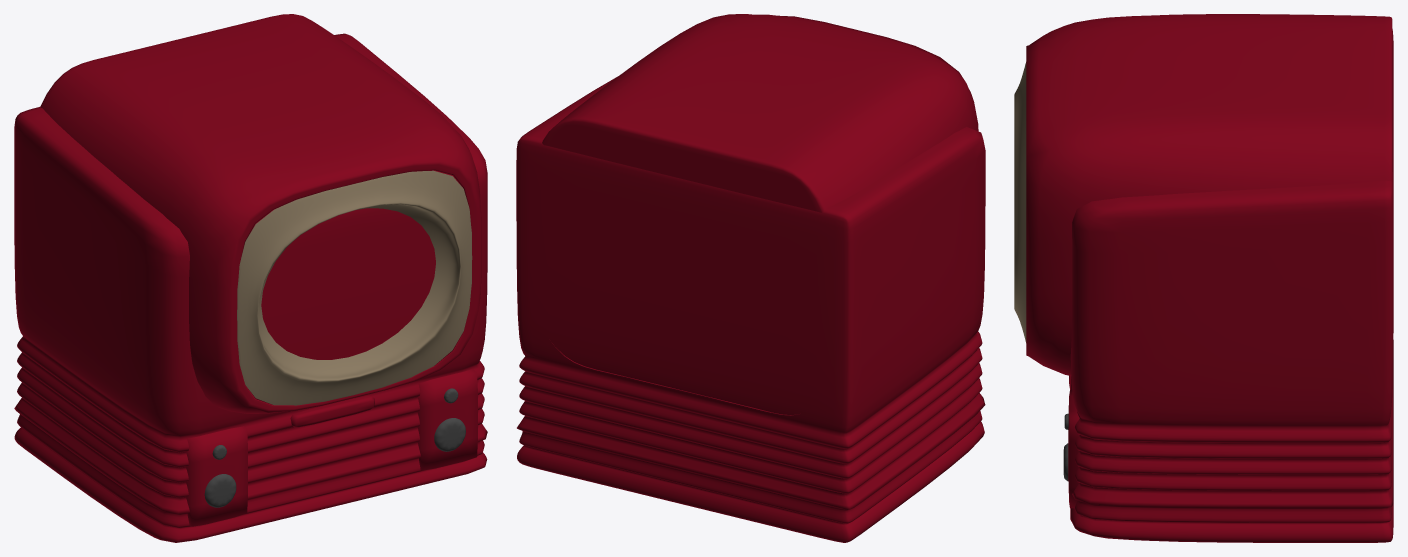
The picture shows the model from 3 angles, left to right: view 1: azimuth 30°, elevation 25°; view 2: azimuth 150°, elevation 25°; view 3: azimuth 270°, elevation 25°; orthographic projection. The views are drawn at different scales.
Visible parts, largest first — view 1: Cube.001; view 2: Cube.001; view 3: Cube.001.
Boxes of the visible parts, x1=… form: Cube.001: x1=14, y1=14, x2=487, y2=542; Cube.001: x1=516, y1=14, x2=985, y2=542; Cube.001: x1=1014, y1=14, x2=1393, y2=542.
Size of the model in its own units: 61.35 by 63.84 by 56.05.
